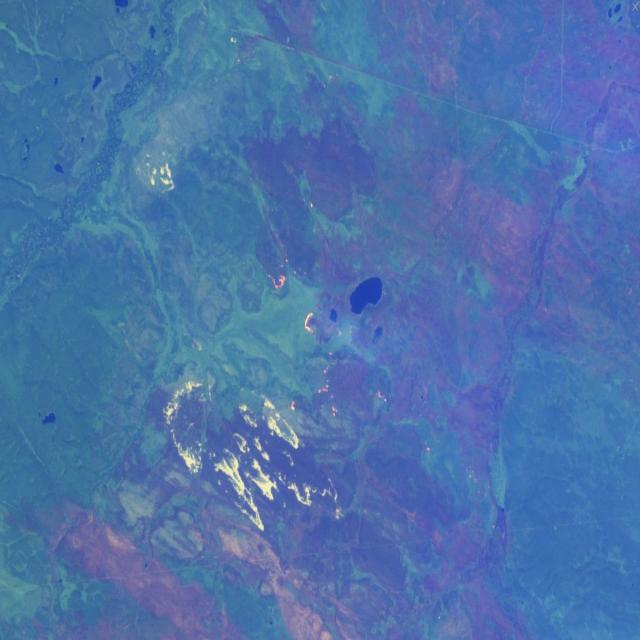fire: (160, 364, 345, 540), (262, 258, 328, 346), (134, 152, 179, 199)
